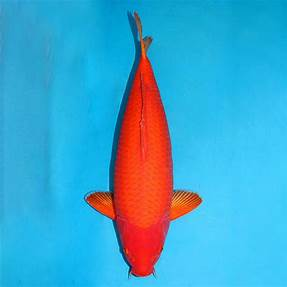red: (85, 11, 203, 277)
